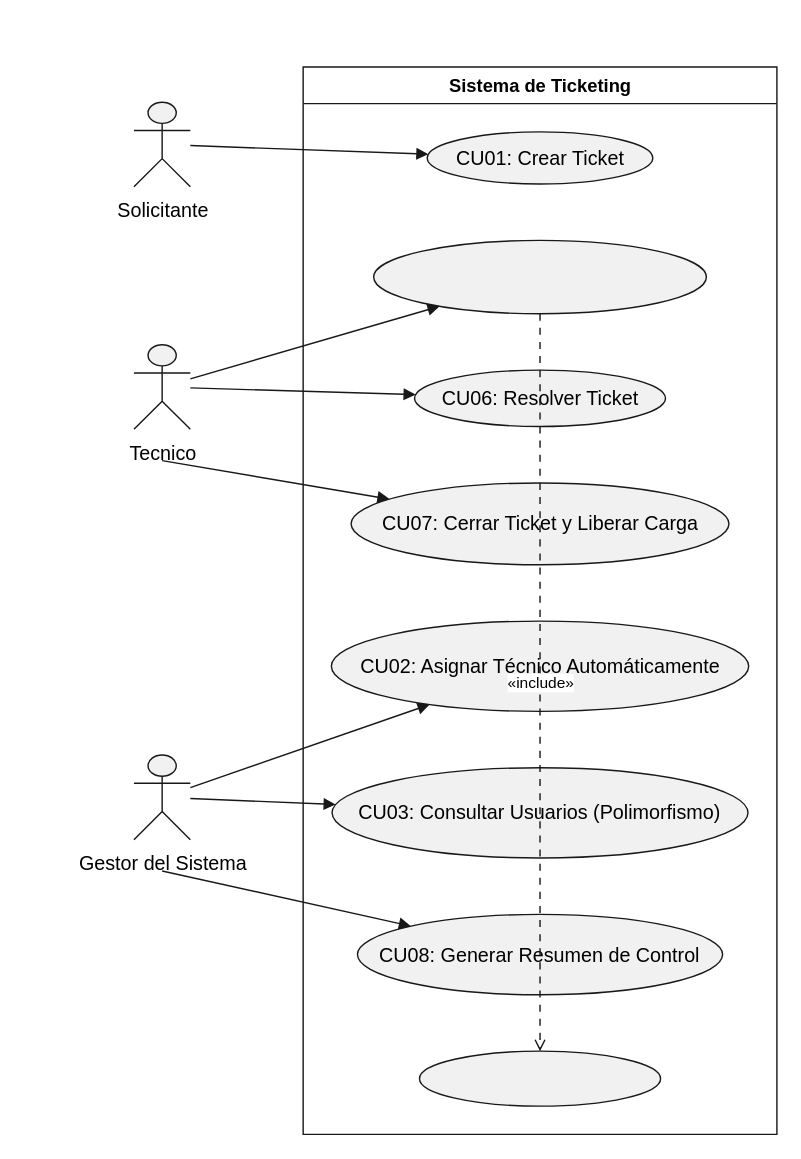
The diagram is 801 pixels wide and 1159 high, and some of its shapes have lost their labels. The box of each missing label's shape, as (x1, y1, x2, y2) in pixels:
CU04: Registrar Error en Ticket: (372, 239, 706, 314)
CU05: Escalar Ticket: (418, 1050, 661, 1106)
